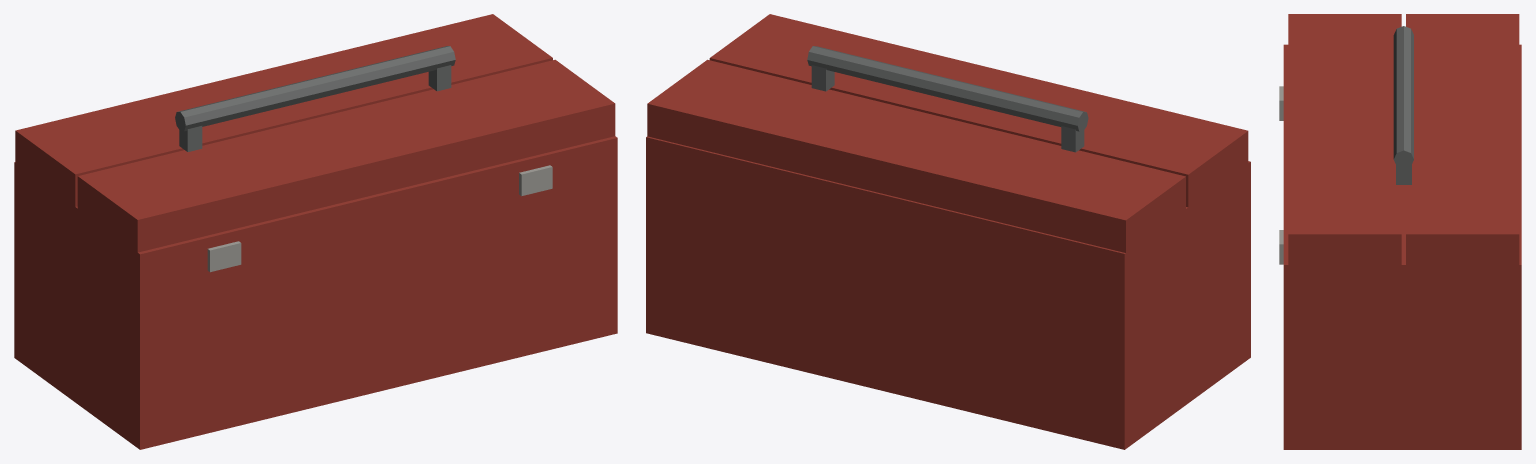
Rendered from toolbox.glb.
3 views of the same model, side by side, from view 1: azimuth 30°, elevation 25°; view 2: azimuth 150°, elevation 25°; view 3: azimuth 270°, elevation 25° (orthographic). The views are drawn at different scales.
Visible parts, largest first — view 1: accent-warm, metal, brushed; view 2: accent-warm, metal; view 3: accent-warm, metal, brushed.
Boxes of the visible parts, <box> form: accent-warm: <box>14,14,617,449</box>; metal: <box>175,46,455,151</box>; brushed: <box>207,165,552,272</box>; accent-warm: <box>646,14,1250,449</box>; metal: <box>807,46,1088,152</box>; accent-warm: <box>1283,14,1521,449</box>; metal: <box>1393,26,1413,184</box>; brushed: <box>1279,86,1283,264</box>.
Bounding box in the file's own units: 0.46 × 0.245 × 0.214.
